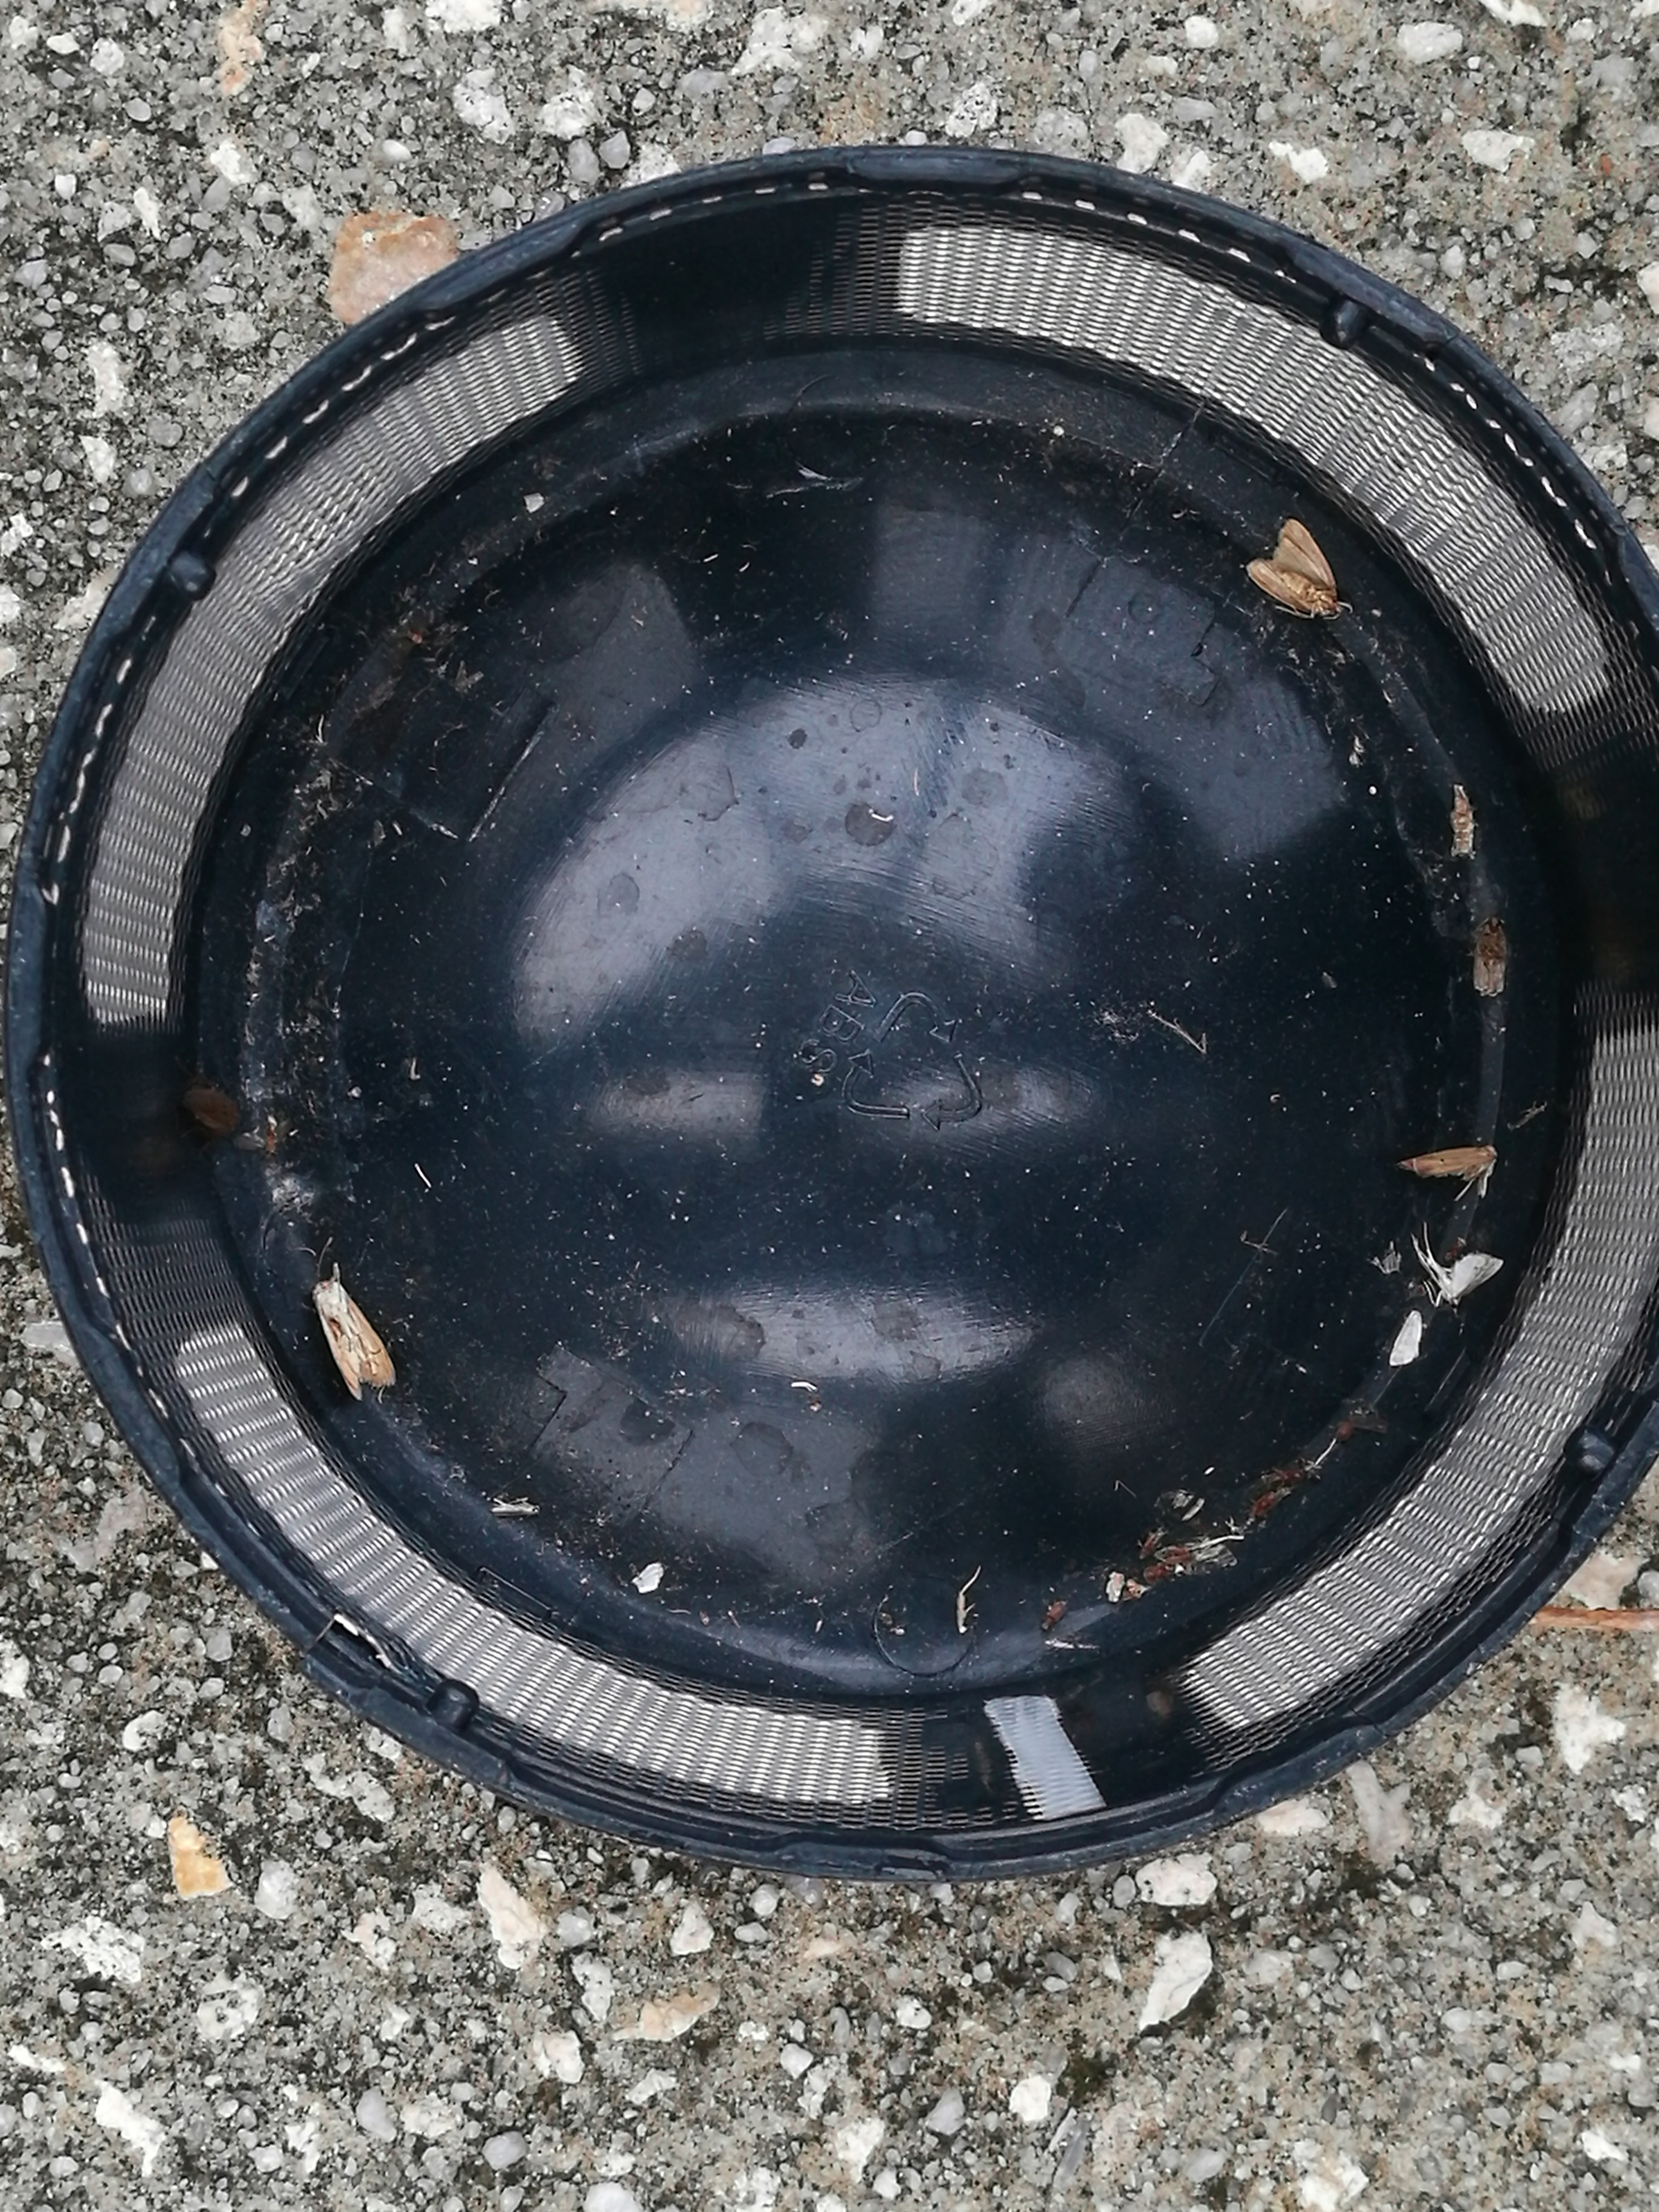mosquito: (312, 1280, 394, 1399), (1467, 918, 1509, 995)
moth: (1251, 521, 1337, 617), (1398, 1146, 1497, 1198), (1443, 1251, 1502, 1306)
